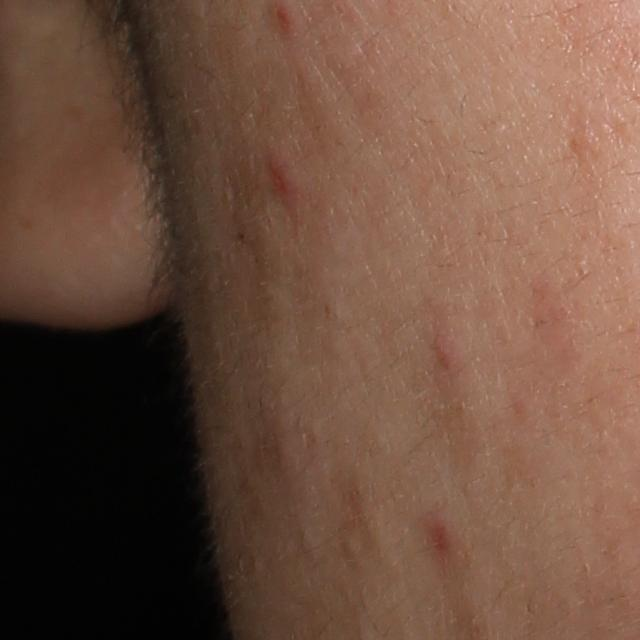comedo: (340, 535, 364, 562)
papule: (413, 513, 463, 563), (262, 154, 305, 206), (425, 332, 461, 380)
